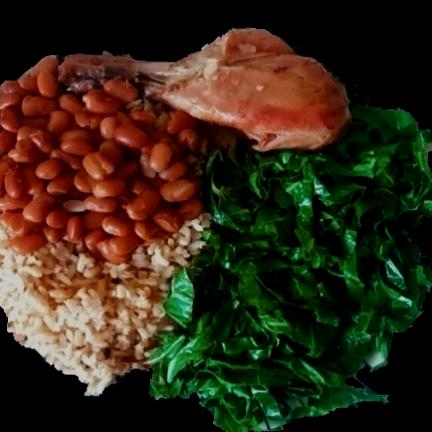beans: (0, 60, 204, 261)
chicken: (59, 29, 352, 152)
rice: (0, 214, 210, 395)
salad: (153, 104, 432, 432)
